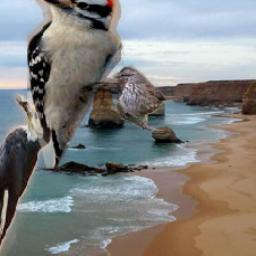Sparrow: (111, 64, 184, 131)
Woodpecker: (27, 0, 125, 170), (0, 91, 52, 256)
